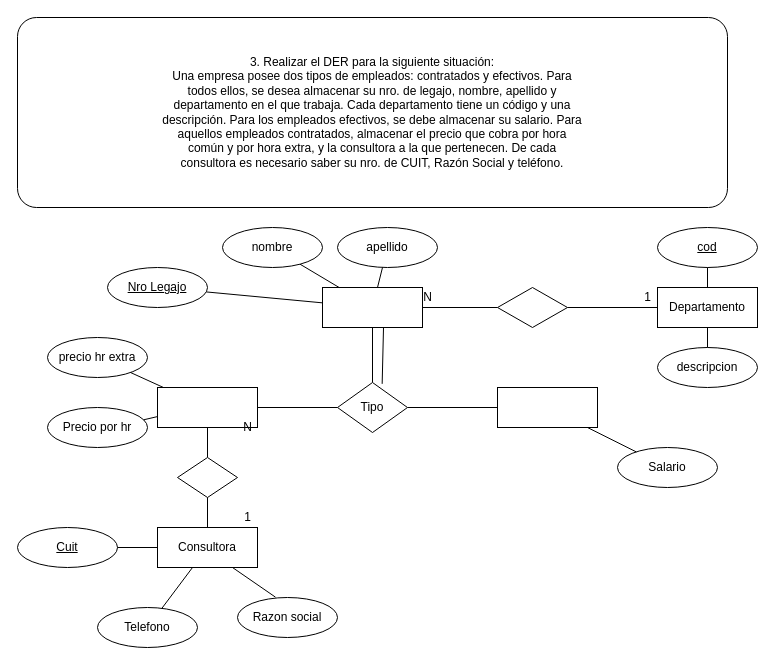
Image size: 775x665. Some labels were removed from this diagram. The shapes that lost their labels are listed below. From the top down, each one's box as (x1, y1, x2, y2) in pixels, then its label:
(322, 286, 422, 328): Empleados
(496, 286, 568, 328): Trabaja en
(156, 386, 258, 428): Contratados
(496, 386, 598, 428): Efectivos
(176, 456, 238, 498): Pertenece a
